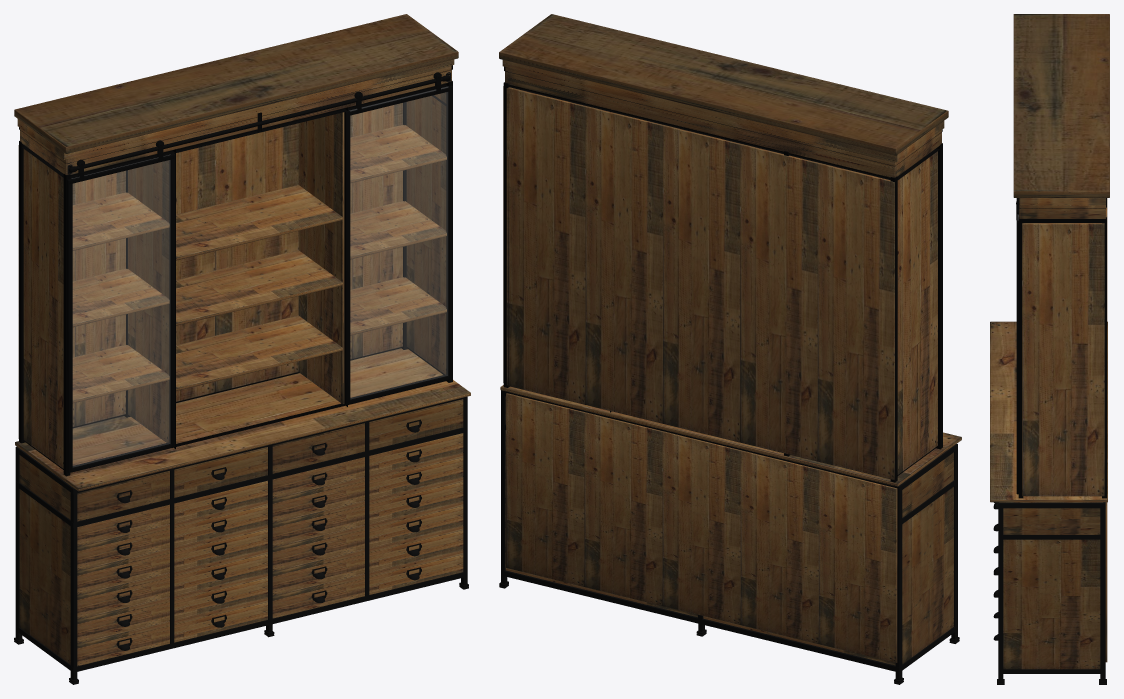
3 renders of one model, left to right at view 1: azimuth 30°, elevation 25°; view 2: azimuth 150°, elevation 25°; view 3: azimuth 270°, elevation 25°, orthographic. The views are drawn at different scales.
Parts seen in each view (by area): view 1: Buffer Layer (×6), СТОЛЕШНИЦА, СПИНКА 4, бок1, бок1_3, обводкасередина_1_2, бок1_2, бок1_1, бок_1, бок1_5, бок1_6, бок1_4 (+30 smaller); view 2: СПИНКА 1, СПИНКА 2, Buffer Layer (×2), бок1, бок_1, обводкасередина_1_2, СТОЛЕШНИЦА, обводкасередина_1, Cube_7, бок_верх2, Cube_6, Cube_16 (+1 smaller); view 3: бок1_1, Buffer Layer (×3), бок, СТОЛЕШНИЦА, обводкасередина_1, бок_верх, Cube_7, Cube_6, СПИНКА 2, Cube_10, СПИНКА 1, ручки.
Part boxes in pixels (x1=…): Buffer Layer (×6): x1=14, y1=14, x2=458, y2=473; СТОЛЕШНИЦА: x1=15, y1=348, x2=470, y2=491; СПИНКА 4: x1=176, y1=123, x2=298, y2=401; бок1: x1=23, y1=149, x2=63, y2=468; бок1_3: x1=298, y1=112, x2=344, y2=404; обводкасередина_1_2: x1=14, y1=444, x2=274, y2=684; бок1_2: x1=128, y1=160, x2=169, y2=442; бок1_1: x1=406, y1=92, x2=446, y2=374; бок_1: x1=19, y1=489, x2=70, y2=664; бок1_5: x1=176, y1=250, x2=342, y2=325; бок1_6: x1=176, y1=185, x2=342, y2=260; бок1_4: x1=176, y1=315, x2=342, y2=391; СПИНКА 1: x1=508, y1=87, x2=894, y2=480; СПИНКА 2: x1=506, y1=393, x2=897, y2=662; Buffer Layer (×2): x1=499, y1=14, x2=948, y2=177; бок1: x1=897, y1=151, x2=937, y2=474; бок_1: x1=902, y1=487, x2=953, y2=664; обводкасередина_1_2: x1=698, y1=439, x2=959, y2=684; СТОЛЕШНИЦА: x1=500, y1=385, x2=961, y2=486; обводкасередина_1: x1=499, y1=390, x2=706, y2=636; Cube_7: x1=936, y1=143, x2=942, y2=449; бок_верх2: x1=902, y1=452, x2=953, y2=517; Cube_6: x1=503, y1=82, x2=509, y2=387; Cube_16: x1=510, y1=85, x2=890, y2=179; бок1_1: x1=1022, y1=223, x2=1104, y2=496; Buffer Layer (×3): x1=1013, y1=14, x2=1109, y2=494; бок: x1=1003, y1=539, x2=1100, y2=669; СТОЛЕШНИЦА: x1=990, y1=321, x2=1107, y2=502; обводкасередина_1: x1=997, y1=502, x2=1106, y2=684; бок_верх: x1=1003, y1=508, x2=1100, y2=534; Cube_7: x1=1018, y1=217, x2=1023, y2=498; Cube_6: x1=1102, y1=217, x2=1106, y2=498; СПИНКА 2: x1=1105, y1=502, x2=1107, y2=662; Cube_10: x1=1019, y1=217, x2=1106, y2=222; СПИНКА 1: x1=1106, y1=198, x2=1107, y2=493; ручки: x1=993, y1=502, x2=998, y2=640.
Bounding box in the file's own units: 1.74 × 2.23 × 0.4913.
36 materials, 27 textured.
